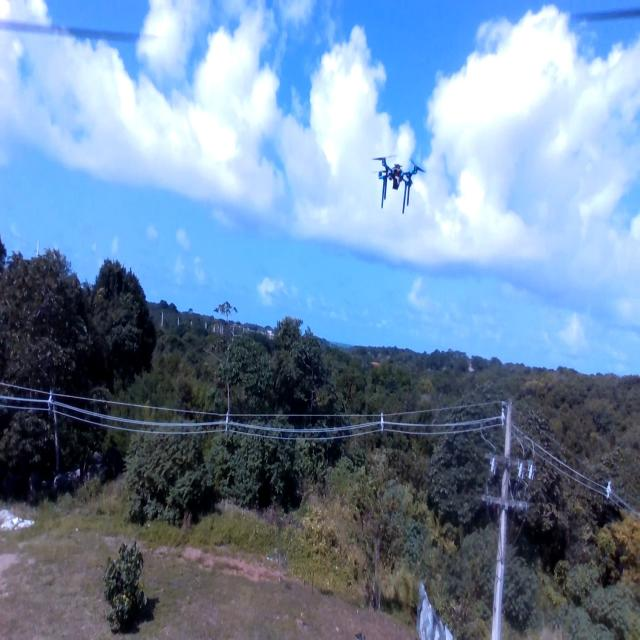-uav-: (368, 144, 428, 218)
